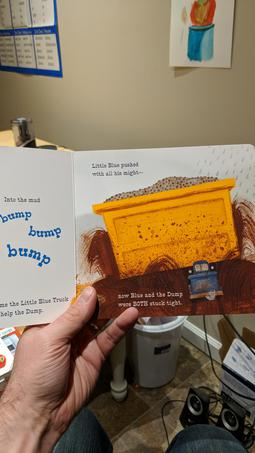text block: (113, 288, 187, 314), (1, 295, 74, 317), (83, 156, 145, 181), (1, 187, 49, 208)
